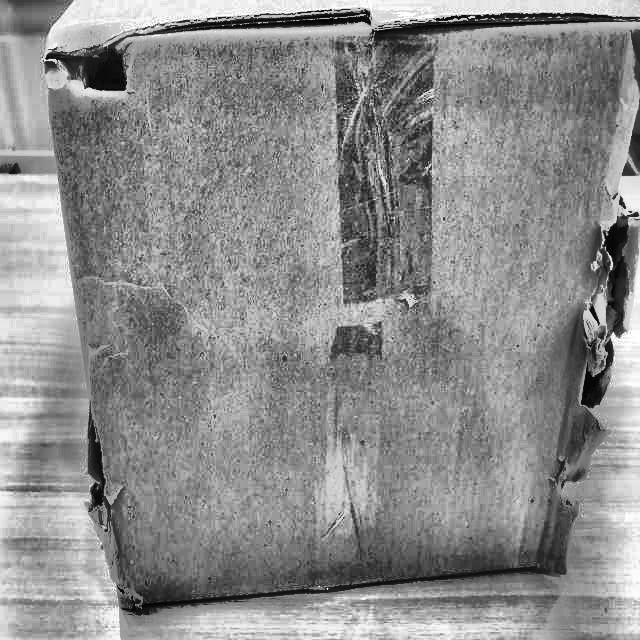box: (26, 0, 639, 625)
hole: (581, 113, 637, 459), (56, 34, 138, 111)
